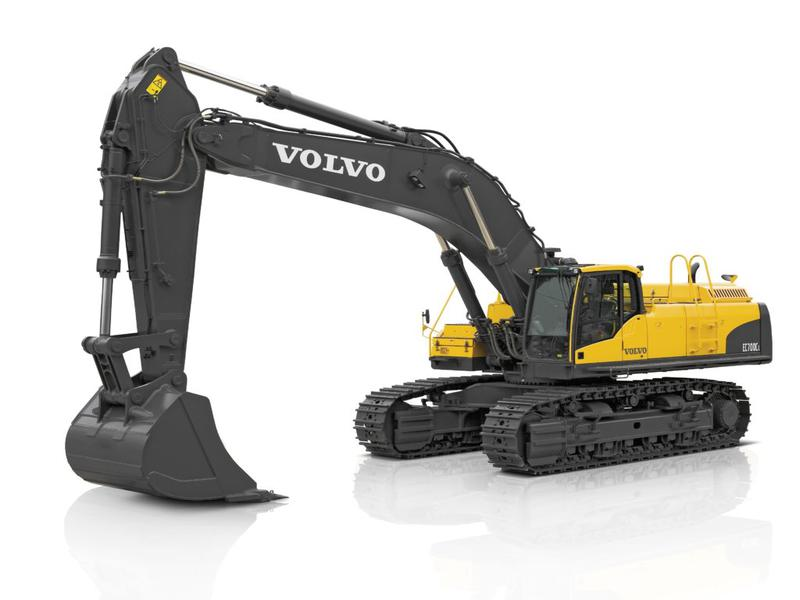shovel: (63, 27, 779, 511)
